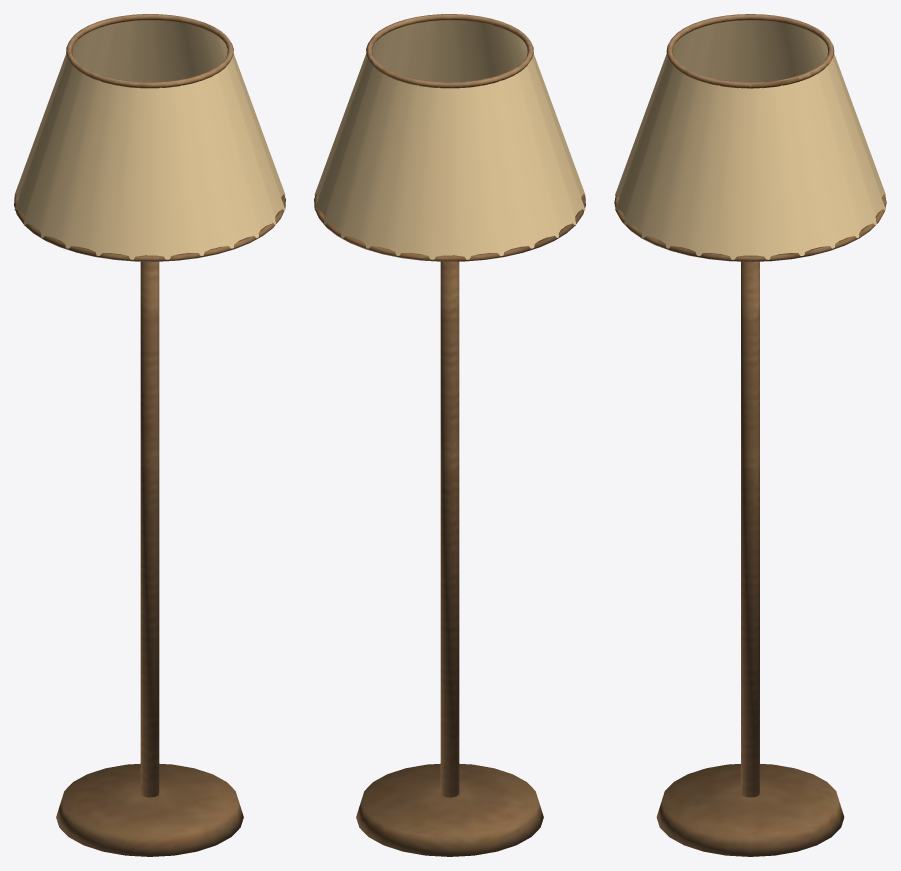
Rendered from floor_lamp.glb.
3 views of the same model, side by side, from view 1: azimuth 30°, elevation 25°; view 2: azimuth 150°, elevation 25°; view 3: azimuth 270°, elevation 25° (orthographic).
Visible parts, largest first — view 1: floor_lamp_paper, floor_lamp_wood; view 2: floor_lamp_paper, floor_lamp_wood; view 3: floor_lamp_paper, floor_lamp_wood.
Boxes of the visible parts, left/top/right/bottom form: floor_lamp_paper: left=14, top=20, right=285, bottom=259; floor_lamp_wood: left=14, top=14, right=285, bottom=856; floor_lamp_paper: left=314, top=20, right=585, bottom=259; floor_lamp_wood: left=314, top=14, right=585, bottom=856; floor_lamp_paper: left=615, top=20, right=885, bottom=259; floor_lamp_wood: left=614, top=14, right=886, bottom=856.
Size of the model in its own units: 1.04 by 3.25 by 1.04.
Materials: 2 (1 with a texture image).
